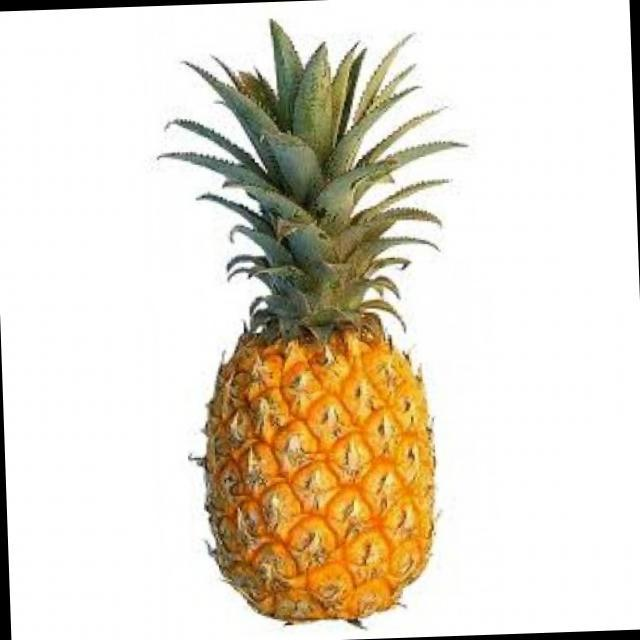PINEAPLE: (188, 44, 455, 638)
